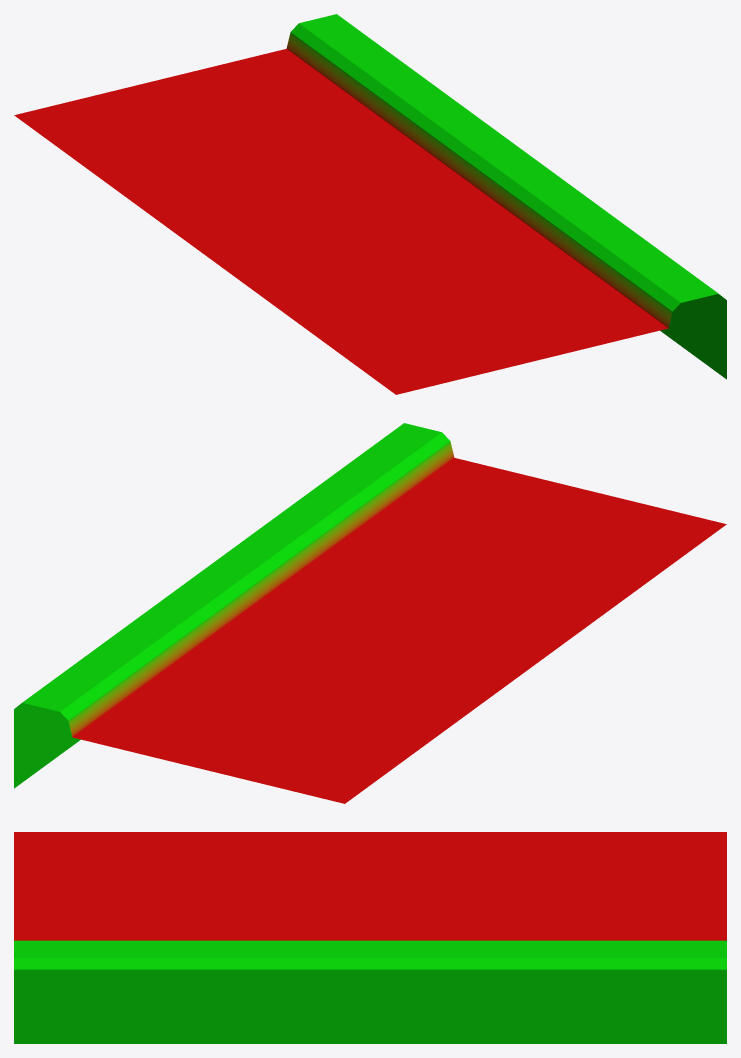
Rendered from NarrowRoad_Edge.fbx.
3 renders of one model, top to bottom at view 1: azimuth 30°, elevation 25°; view 2: azimuth 150°, elevation 25°; view 3: azimuth 270°, elevation 25°, orthographic. The views are drawn at different scales.
Visible parts, largest first — view 1: NarrowRoad_Edge; view 2: NarrowRoad_Edge; view 3: NarrowRoad_Edge.
Boxes of the visible parts, <box> form: NarrowRoad_Edge: <box>14,14,726,394</box>; NarrowRoad_Edge: <box>14,423,726,803</box>; NarrowRoad_Edge: <box>14,832,726,1043</box>.
Size of the model in its own units: 100 by 200 by 25.42.
